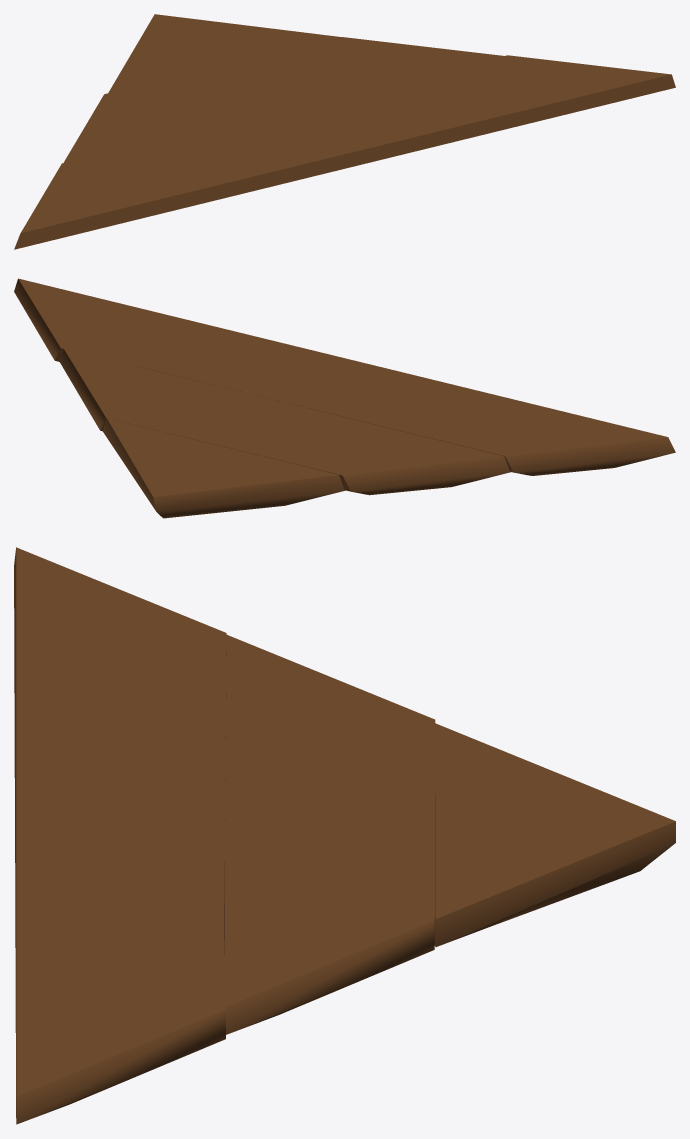
File: rt90_wood_4_willowSplitLogTriFloorSection2.glb
The picture shows the model from 3 angles, top to bottom: view 1: azimuth 30°, elevation 25°; view 2: azimuth 150°, elevation 25°; view 3: azimuth 270°, elevation 25°; orthographic projection. The views are drawn at different scales.
Visible parts, largest first — view 1: inside; view 2: inside; view 3: inside.
Boxes of the visible parts, x1,y1,x2,y2 form: inside: (14, 14, 675, 249); inside: (14, 278, 675, 518); inside: (14, 547, 675, 1124).
Bounding box in the file's own units: 2.92 × 0.1233 × 1.46.
